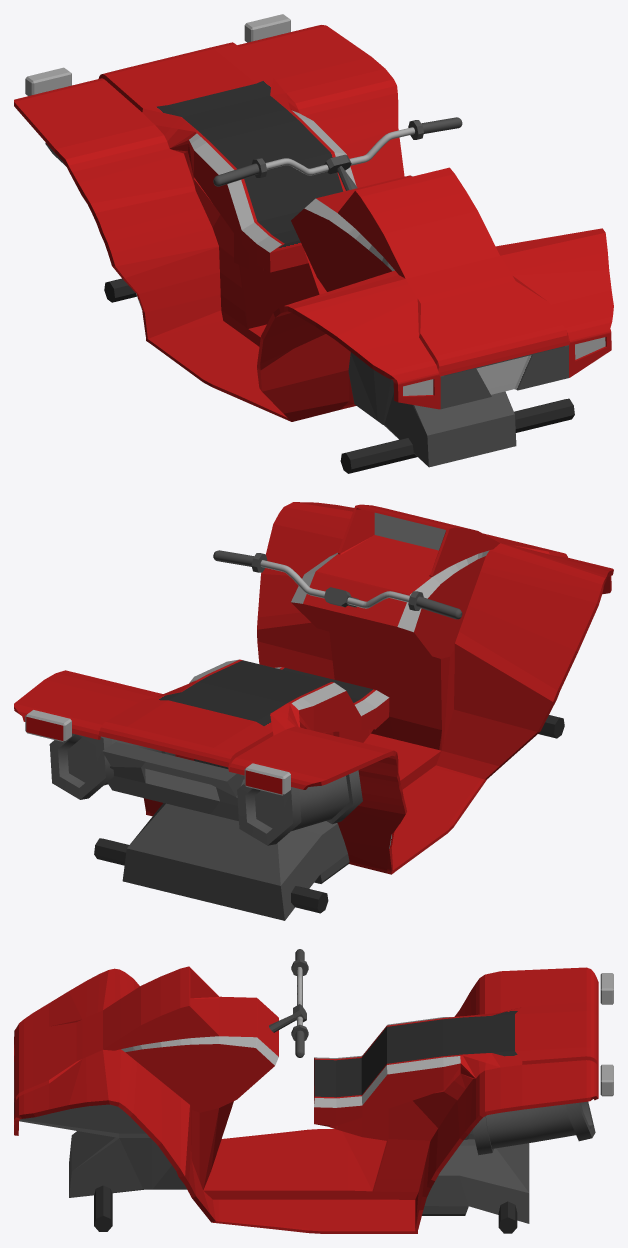
File: Quad_Bike.fbx
3 renders of one model, top to bottom at view 1: azimuth 30°, elevation 25°; view 2: azimuth 150°, elevation 25°; view 3: azimuth 270°, elevation 25°, orthographic. The views are drawn at different scales.
Parts seen in each view (by area): view 1: Quad_Bike_Body, st; view 2: Quad_Bike_Body, st; view 3: Quad_Bike_Body, st.
Part boxes in pixels (x1=…): Quad_Bike_Body: x1=14, y1=14, x2=613, y2=473; st: x1=213, y1=117, x2=462, y2=190; Quad_Bike_Body: x1=14, y1=502, x2=613, y2=920; st: x1=213, y1=550, x2=462, y2=619; Quad_Bike_Body: x1=14, y1=966, x2=613, y2=1233; st: x1=269, y1=949, x2=308, y2=1057.
Size of the model in its own units: 105 by 72.35 by 193.
